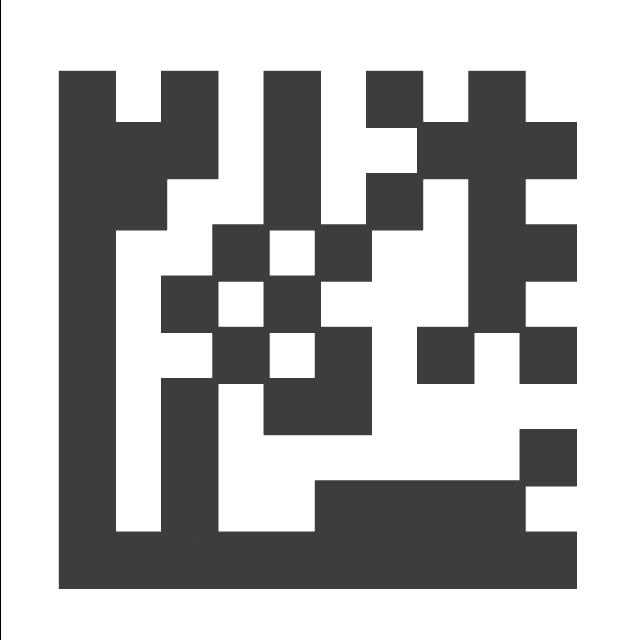DataMatrix: (32, 45, 602, 608)
